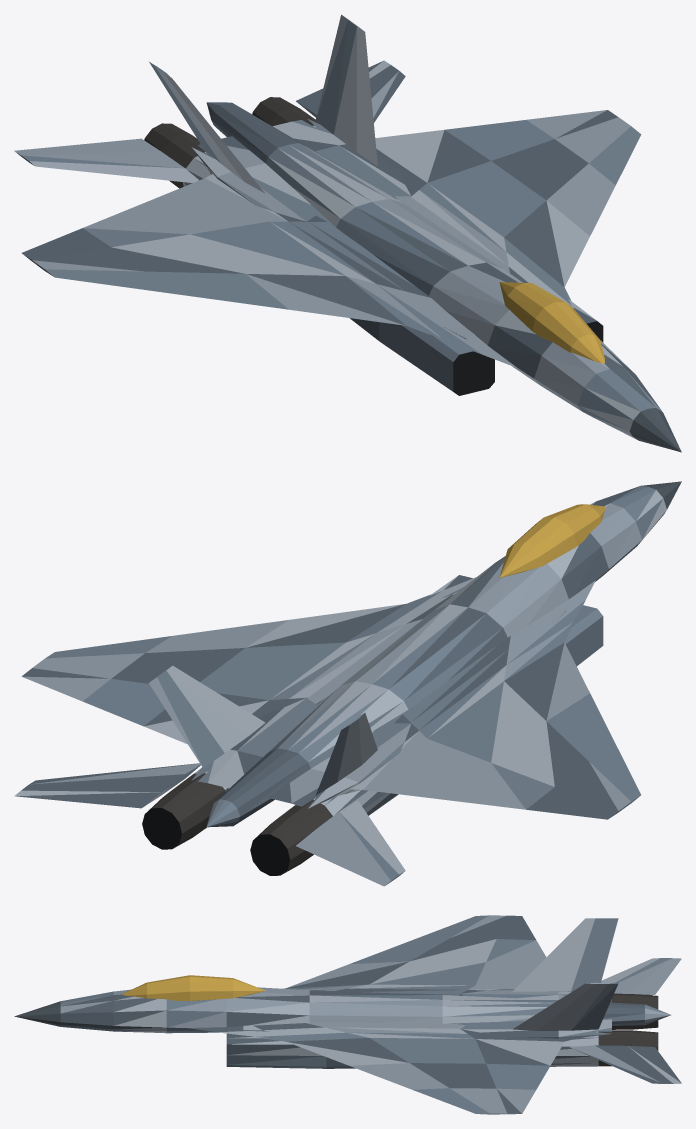
3 views of the same model, one above another, from view 1: azimuth 30°, elevation 25°; view 2: azimuth 150°, elevation 25°; view 3: azimuth 270°, elevation 25° (orthographic). The views are drawn at different scales.
Visible parts, largest first — view 1: ks55; view 2: ks55; view 3: ks55.
Boxes of the visible parts, left/top/right/bottom form: ks55: left=14, top=14, right=681, bottom=452; ks55: left=14, top=481, right=681, bottom=886; ks55: left=14, top=915, right=681, bottom=1114.
Bounding box in the file's own units: 14.1 × 3.22 × 20.11.
